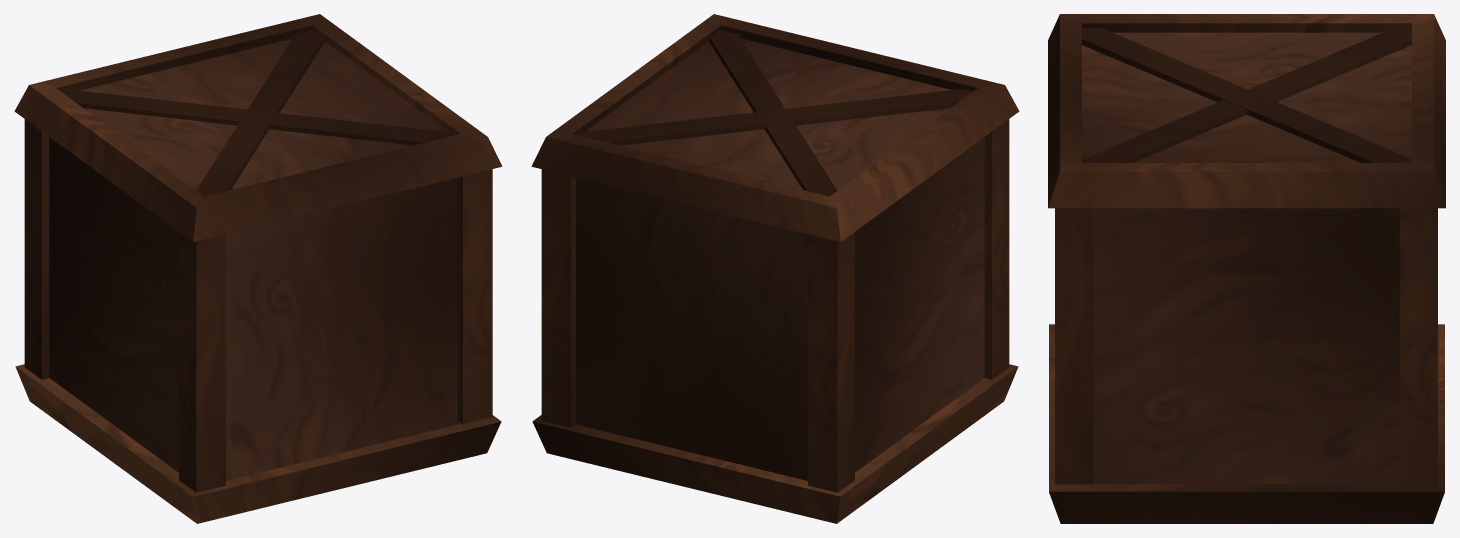
The model's file is Caixa_5.glb.
3 renders of one model, left to right at view 1: azimuth 30°, elevation 25°; view 2: azimuth 150°, elevation 25°; view 3: azimuth 270°, elevation 25°, orthographic. The views are drawn at different scales.
Parts seen in each view (by area): view 1: Caixa.5; view 2: Caixa.5; view 3: Caixa.5.
Boxes of the visible parts, <box> form: Caixa.5: <box>14,14,502,523</box>; Caixa.5: <box>531,14,1019,523</box>; Caixa.5: <box>1048,14,1445,523</box>.
Size of the model in its own units: 0.9432 by 0.9214 by 0.9432.
1 material, 1 textured.
